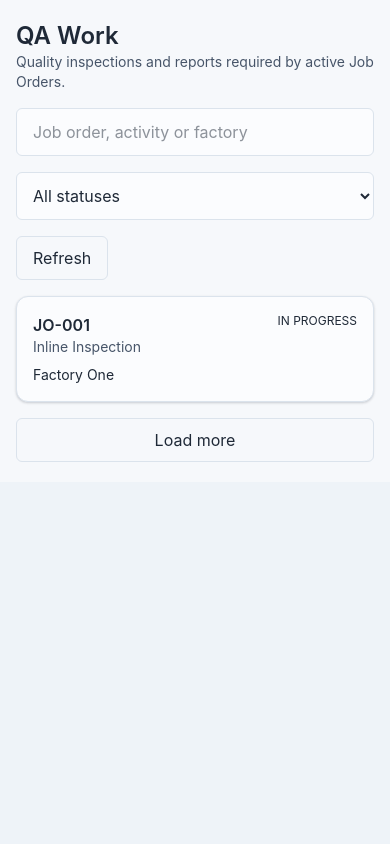
Test: mobile QA work list (QW1 paginated contract) › follows the cursor with Load more, and never claims "none" while more pages exist
Click the button "Load more" at point(195, 440), box [16,418,374,462]
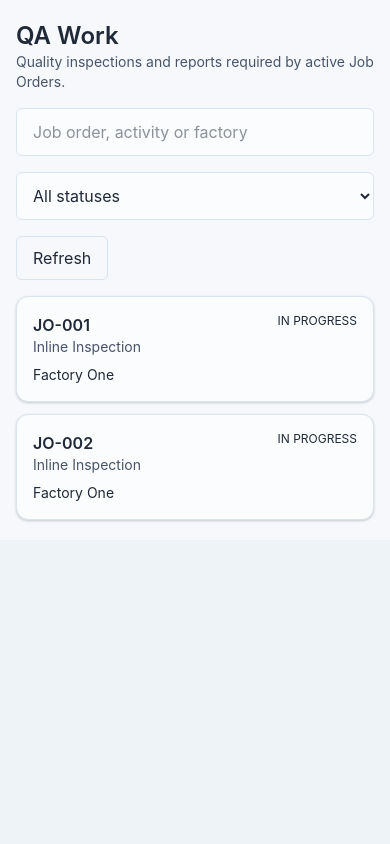
Check: the text "JO-002" is shown, box [33,433,93,453]
